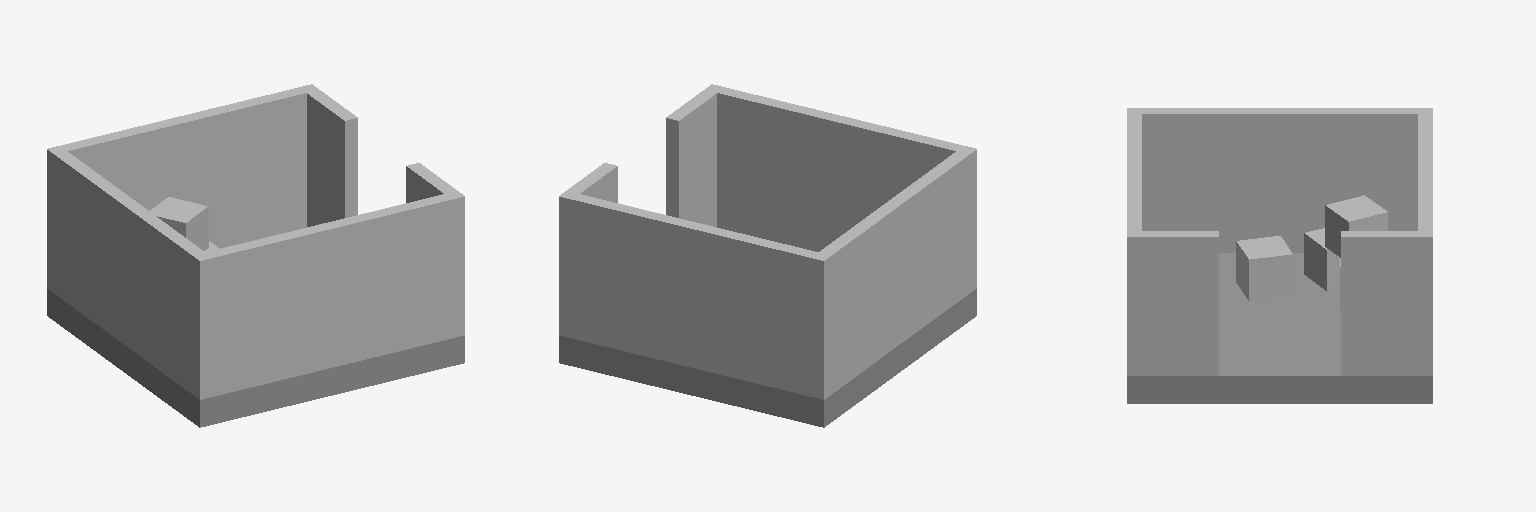
The model's file is big-room_2.obj.
3 views of the same model, side by side, from view 1: azimuth 30°, elevation 25°; view 2: azimuth 150°, elevation 25°; view 3: azimuth 270°, elevation 25° (orthographic).
Parts seen in each view (by area): view 1: Cube.004, Cube, Cube.001_Cube.005; view 2: Cube.004, Cube; view 3: Cube.004, Cube, Cube.002_Cube.006, Cube.001_Cube.005, Cube_Cube.004.
Boxes of the visible parts, x1=… form: Cube.004: x1=47, y1=84, x2=464, y2=399; Cube: x1=47, y1=289, x2=464, y2=427; Cube.001_Cube.005: x1=150, y1=197, x2=208, y2=250; Cube.004: x1=559, y1=84, x2=976, y2=399; Cube: x1=559, y1=289, x2=976, y2=427; Cube.004: x1=1127, y1=108, x2=1432, y2=375; Cube: x1=1127, y1=253, x2=1432, y2=403; Cube.002_Cube.006: x1=1236, y1=236, x2=1292, y2=300; Cube.001_Cube.005: x1=1325, y1=195, x2=1387, y2=257; Cube_Cube.004: x1=1304, y1=228, x2=1339, y2=290.
Bounding box in the file's own units: 10 × 6 × 10.